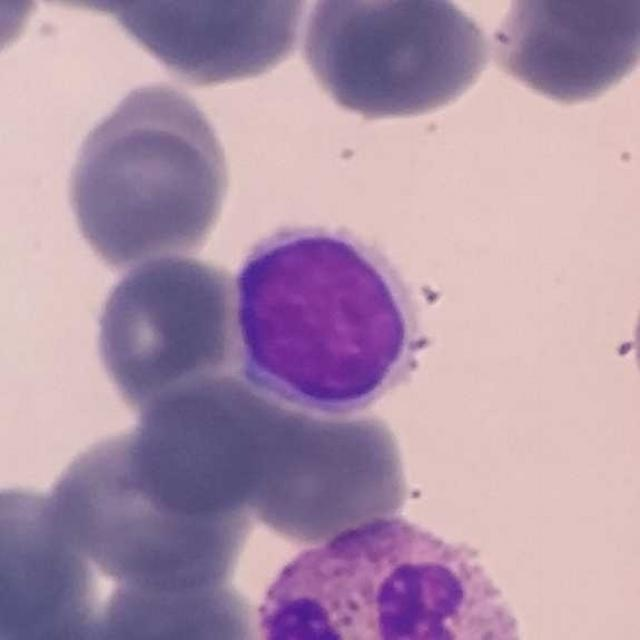Lymphocyte: (236, 224, 425, 413)
Neutrophil: (253, 521, 521, 640)
